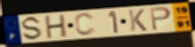1: (107, 10, 120, 35)
C: (73, 12, 98, 37)
H: (45, 13, 68, 40)
K: (127, 8, 148, 32)
P: (149, 6, 173, 32)
S: (21, 15, 44, 41)
